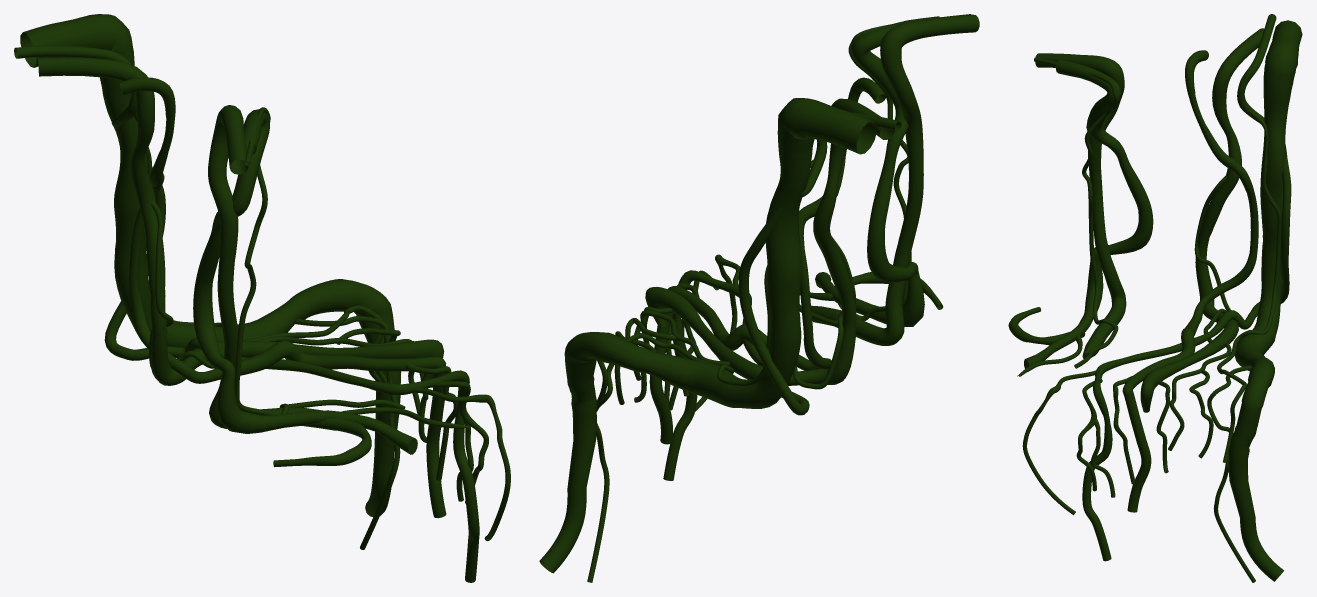
Rendered from Temple_VineClump_Door.FBX.
3 renders of one model, left to right at view 1: azimuth 30°, elevation 25°; view 2: azimuth 150°, elevation 25°; view 3: azimuth 270°, elevation 25°, orthographic. The views are drawn at different scales.
Visible parts, largest first — view 1: Line001; view 2: Line001; view 3: Line001.
Part boxes in pixels (x1,y1,x2,y2): Line001: (14, 14, 510, 582); Line001: (539, 14, 979, 582); Line001: (1008, 14, 1302, 582).
Size of the model in its own units: 22.95 by 34.18 by 20.36.
